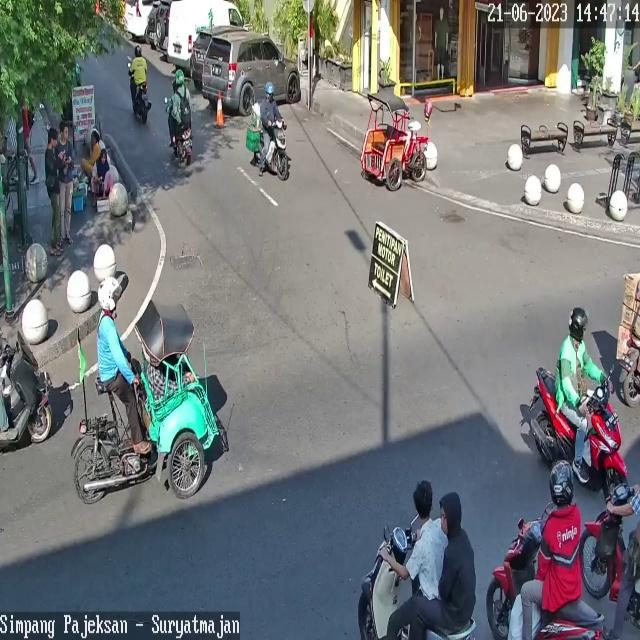bus: (486, 518, 604, 640), (356, 525, 476, 640), (527, 368, 628, 493), (583, 480, 640, 598), (0, 331, 53, 449), (617, 330, 640, 407), (266, 121, 289, 180), (130, 80, 152, 124), (176, 124, 193, 164)
motorcycle: (202, 31, 300, 116), (166, 0, 244, 67), (191, 28, 213, 82), (123, 0, 152, 36)
